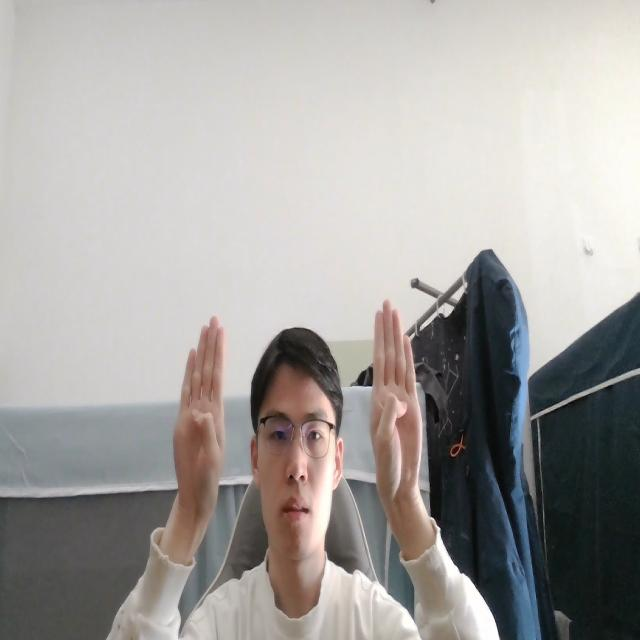four: (364, 295, 430, 535), (170, 310, 229, 536)
